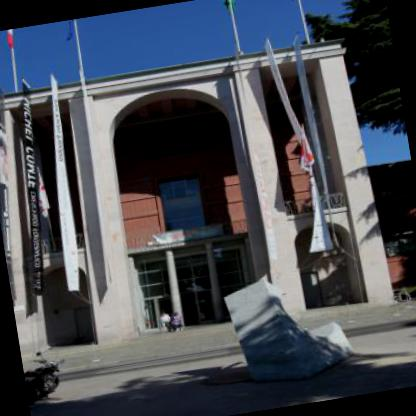motorcycle: (24, 360, 64, 408)
